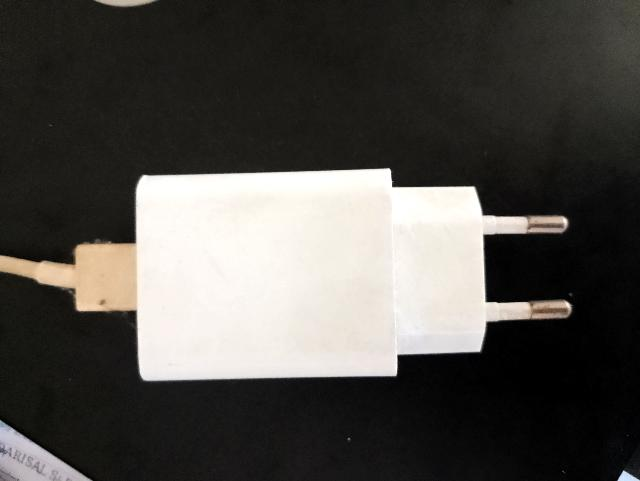hardplastic: (121, 142, 564, 412)
